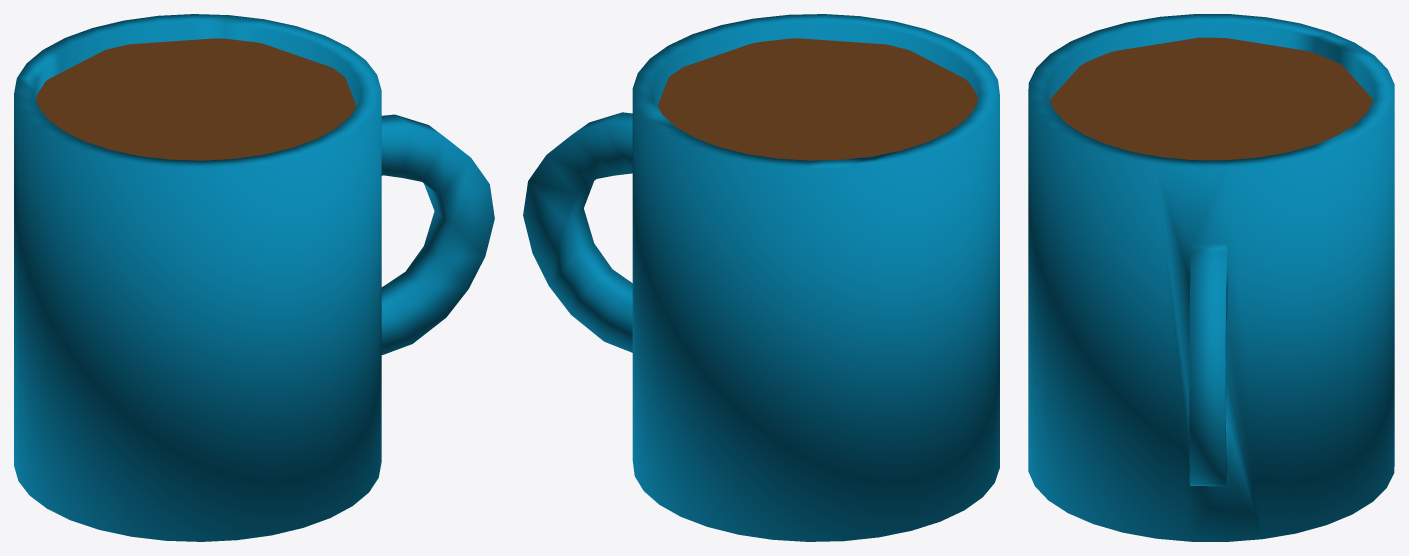
Rendered from CupOfJoe.glb.
3 views of the same model, side by side, from view 1: azimuth 30°, elevation 25°; view 2: azimuth 150°, elevation 25°; view 3: azimuth 270°, elevation 25° (orthographic).
Parts seen in each view (by area): view 1: Cup, Fluid; view 2: Cup, Fluid; view 3: Cup, Fluid.
Boxes of the visible parts, x1,y1,x2,y2 form: Cup: (14,14,494,541); Fluid: (36,38,356,160); Cup: (523,14,999,541); Fluid: (657,38,977,160); Cup: (1028,14,1394,541); Fluid: (1050,37,1373,160).
Size of the model in its own units: 1.51 by 1.21 by 1.07.
